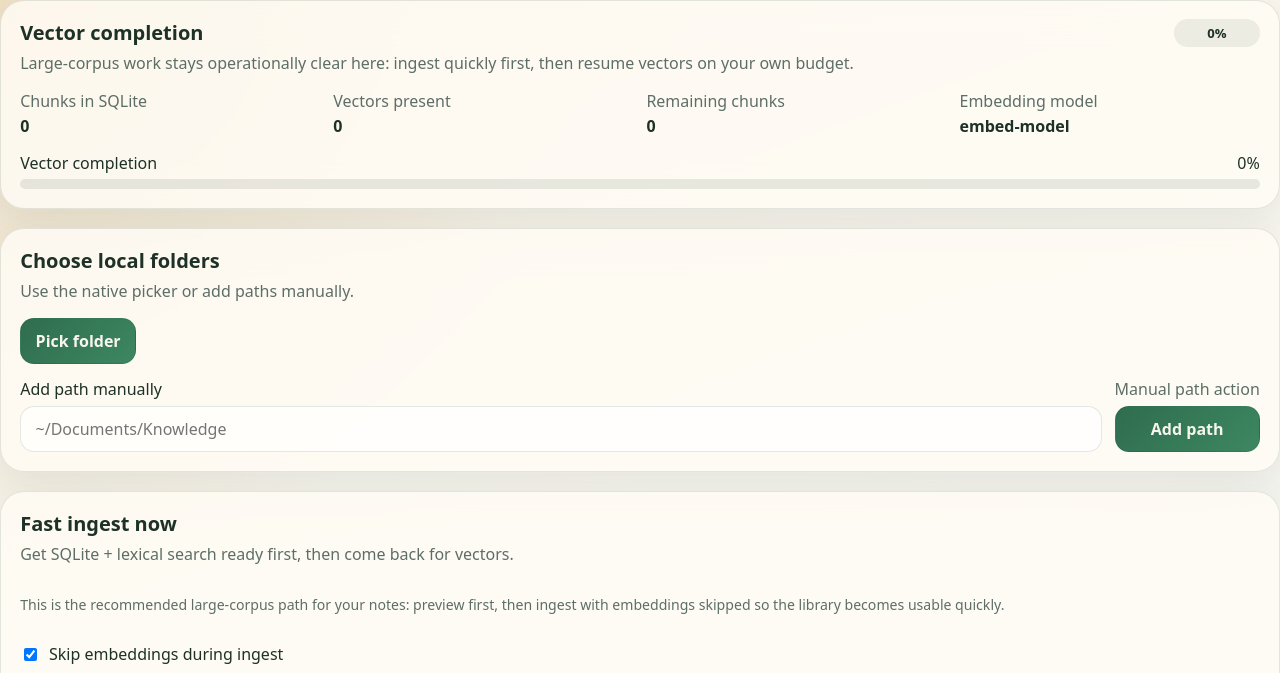
LibraryPage queues ingest preview jobs
The width and height of the screenshot is (1280, 673).
Type "~/Knowledge" into the field named "Manual library path" at (561, 429), box [20,406,1102,452]
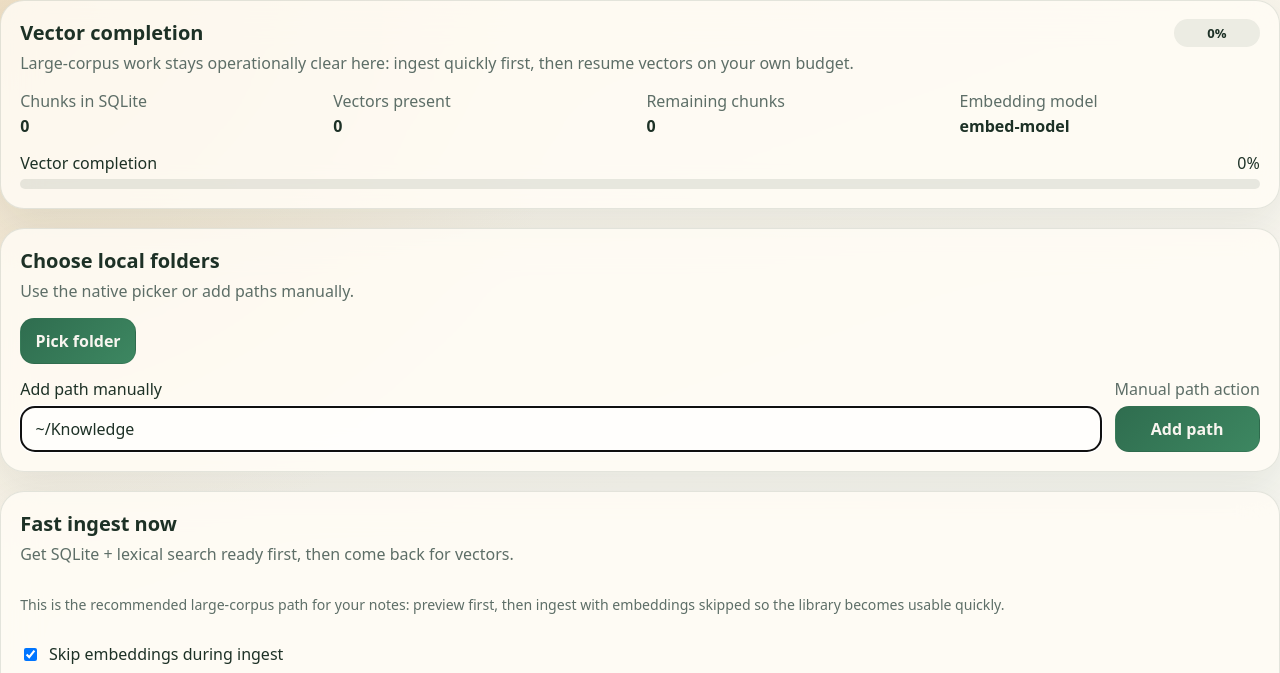
Click the button "Add path" at (1187, 429), box [1114,406,1260,452]
(page scrolled)
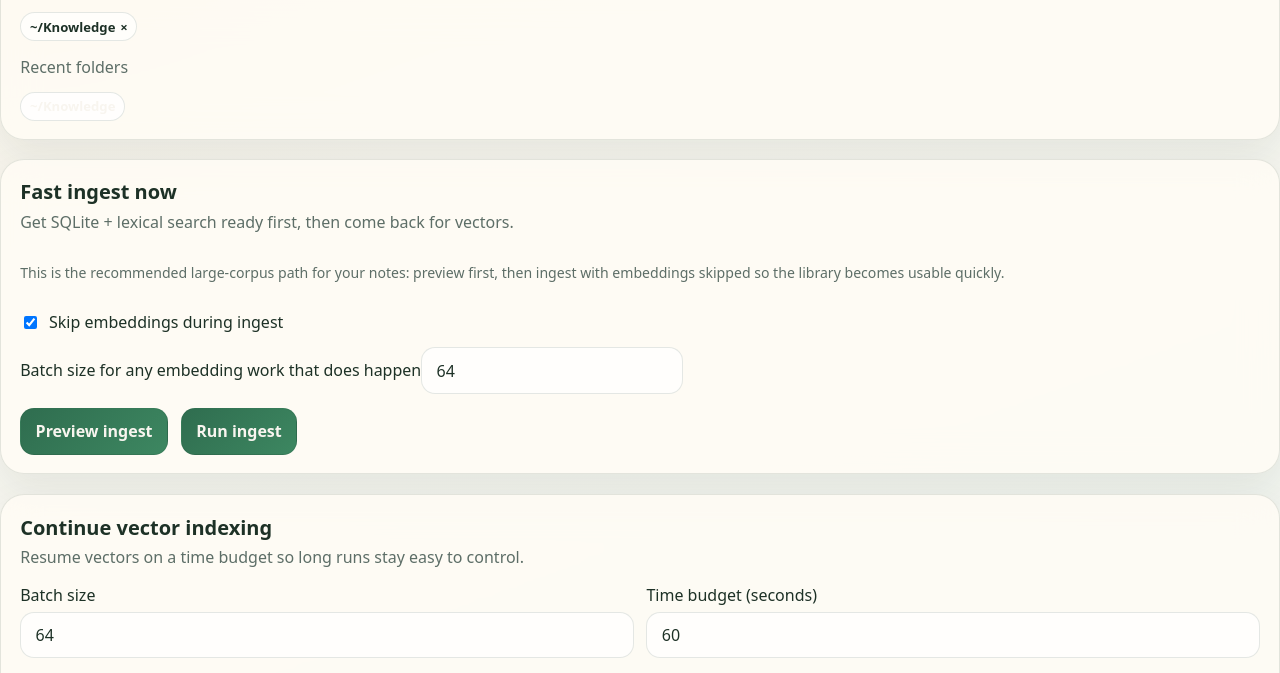
Click the button "Preview ingest" at (94, 432), box [20,409,168,455]
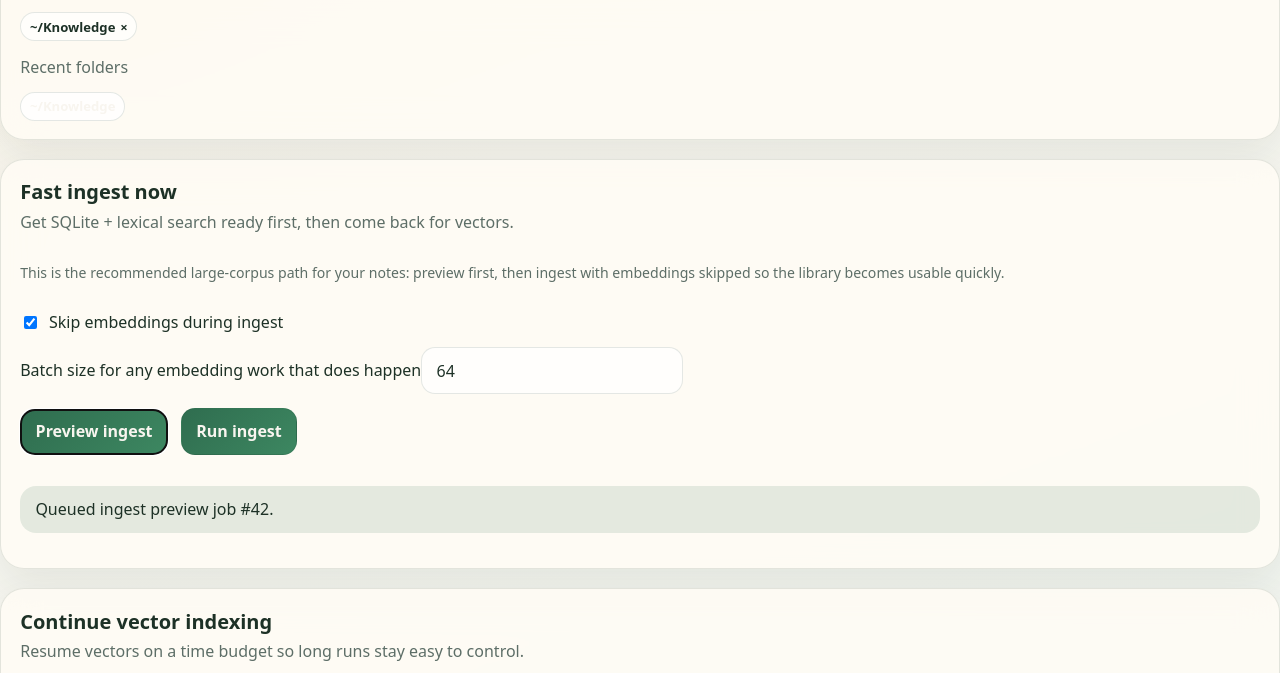
Expected: the text "Queued ingest preview job #42." is shown, [20,486,1260,533]
